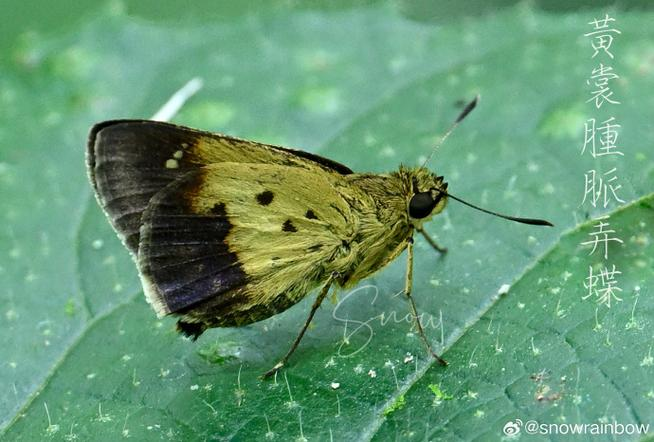Hesperiidae: (85, 88, 557, 380)
